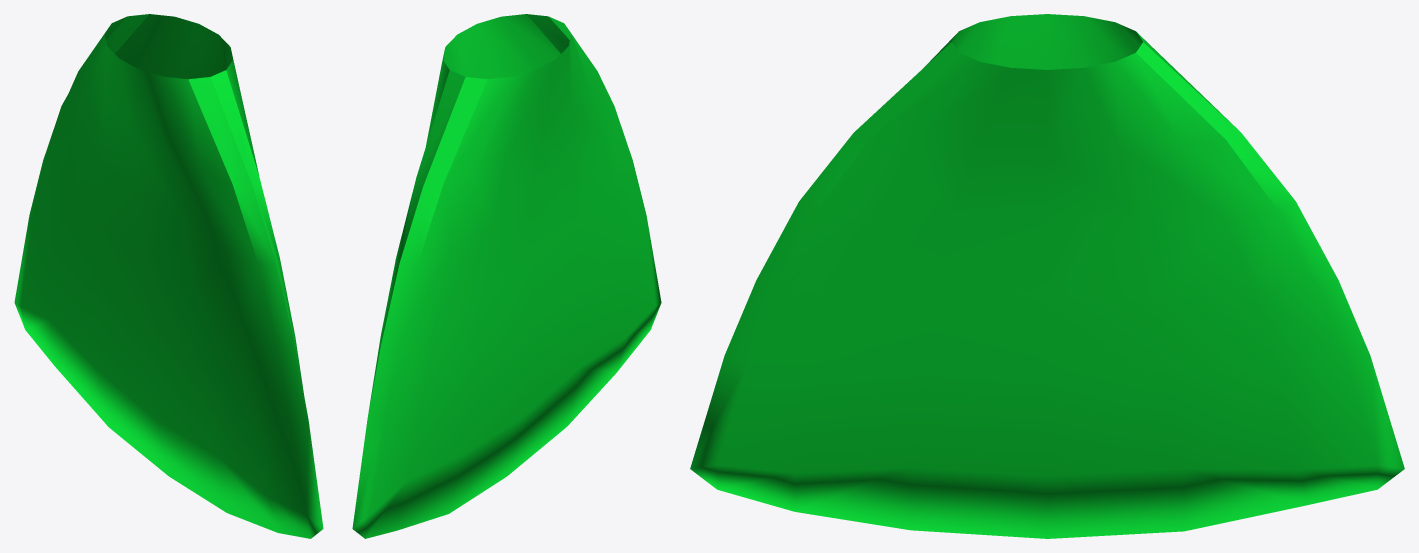
File: brushTip_02.fbx
The picture shows the model from 3 angles, left to right: view 1: azimuth 30°, elevation 25°; view 2: azimuth 150°, elevation 25°; view 3: azimuth 270°, elevation 25°; orthographic projection. The views are drawn at different scales.
Parts seen in each view (by area): view 1: brush_tip_02; view 2: brush_tip_02; view 3: brush_tip_02.
Part boxes in pixels (box(x1,y1,x2,y2)): brush_tip_02: box(14, 14, 323, 538); brush_tip_02: box(352, 14, 661, 538); brush_tip_02: box(690, 14, 1404, 538).
Size of the model in its own units: 0.1283 by 0.531 by 0.6921.
